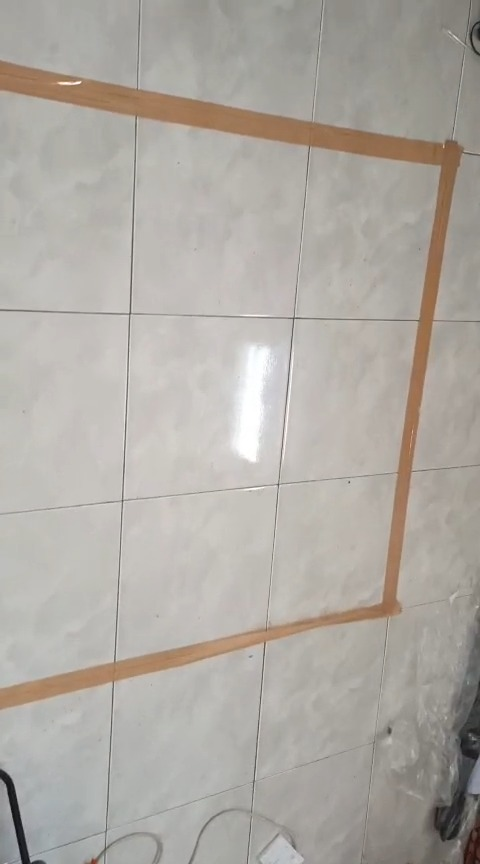floor marking: (0, 61, 461, 709)
